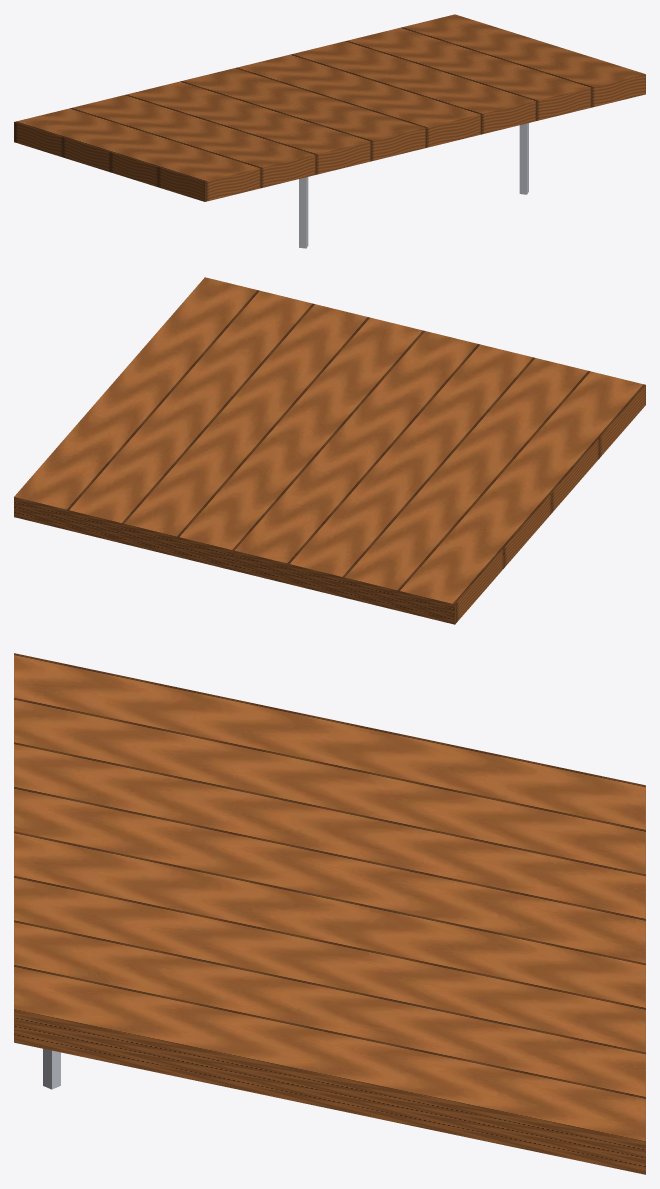
Rendered from velodrome-and-track-cycling-banked-track-straight-modu-3f324304__37973.glb.
The picture shows the model from 3 angles, top to bottom: view 1: azimuth 30°, elevation 25°; view 2: azimuth 150°, elevation 25°; view 3: azimuth 270°, elevation 25°; orthographic projection. The views are drawn at different scales.
Visible parts, largest first — view 1: banked-track-straight-module-board, banked-track-straight-module-steel; view 2: banked-track-straight-module-board; view 3: banked-track-straight-module-board.
Boxes of the visible parts, x1,y1,x2,y2 form: banked-track-straight-module-board: (14,14,645,201); banked-track-straight-module-steel: (299,123,528,248); banked-track-straight-module-board: (14,277,645,624); banked-track-straight-module-board: (14,653,645,1174).
Bounding box in the file's own units: 8 × 1.74 × 6.
Materials: 2 (1 with a texture image).
